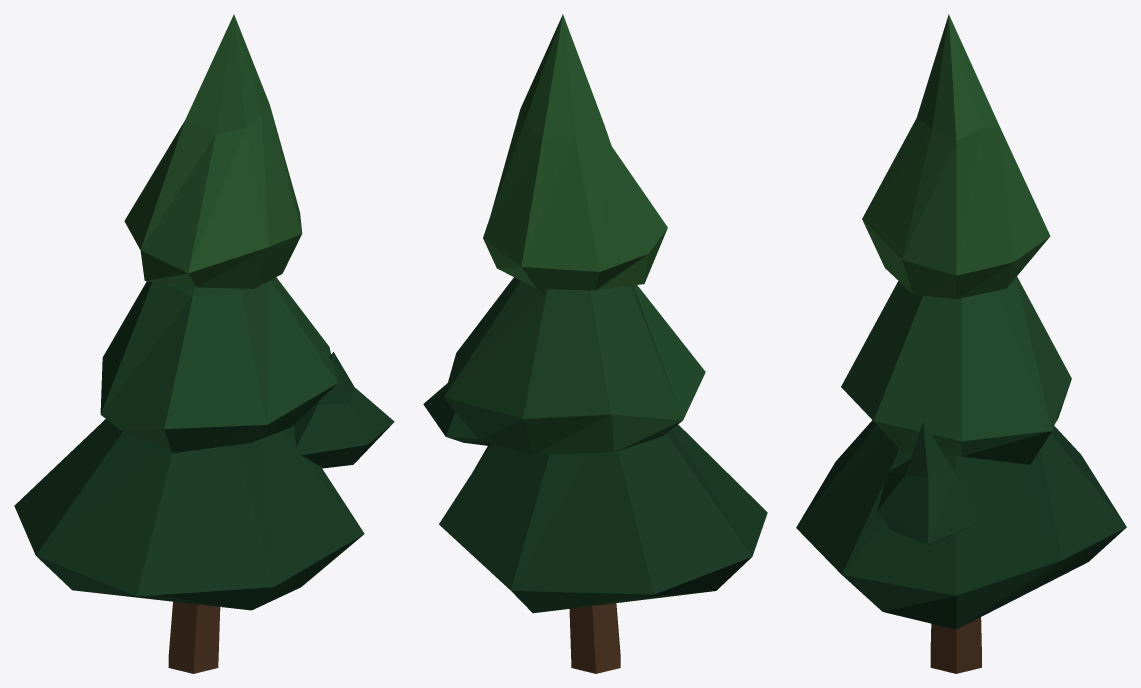
Rendered from E1_pine_a.glb.
3 views of the same model, side by side, from view 1: azimuth 30°, elevation 25°; view 2: azimuth 150°, elevation 25°; view 3: azimuth 270°, elevation 25° (orthographic). The views are drawn at different scales.
Visible parts, largest first — view 1: E1_pine_a; view 2: E1_pine_a; view 3: E1_pine_a.
Part boxes in pixels (x1,y1,x2,y2): E1_pine_a: (14,14,394,673); E1_pine_a: (423,14,767,673); E1_pine_a: (796,14,1126,673).
Size of the model in its own units: 2.37 by 4.2 by 1.89.
